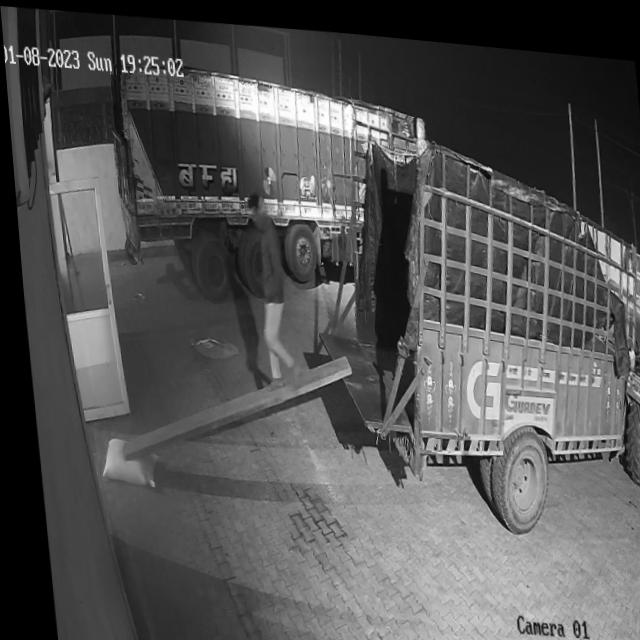sack: (91, 432, 153, 486)
